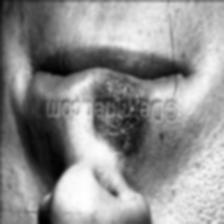Potentially Malignant Skin Tumors: (94, 92, 144, 156)
